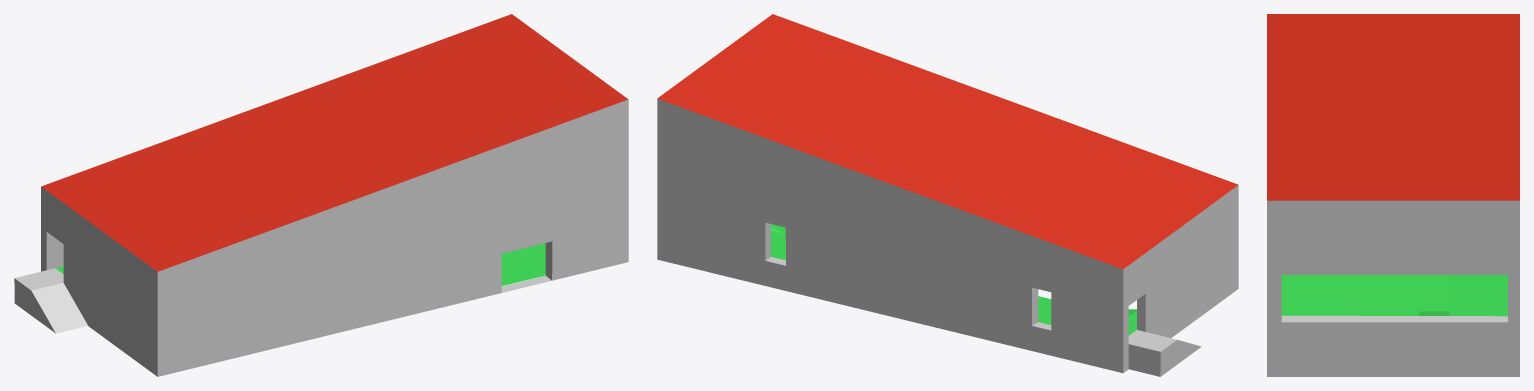
The model's file is kantinetex.fbx.
3 renders of one model, left to right at view 1: azimuth 30°, elevation 25°; view 2: azimuth 150°, elevation 25°; view 3: azimuth 270°, elevation 25°, orthographic. The views are drawn at different scales.
Parts seen in each view (by area): view 1: Plane.001; view 2: Plane.001; view 3: Plane.001.
Part boxes in pixels (x1,y1,x2,y2): Plane.001: [14, 14, 628, 376]; Plane.001: [657, 14, 1238, 376]; Plane.001: [1267, 14, 1519, 376].
Bounding box in the file's own units: 8095 × 2502 × 3252.
